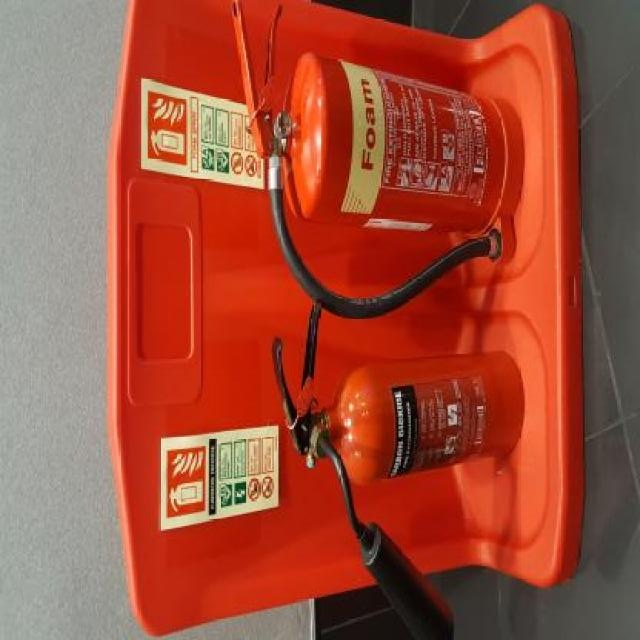fire extinguisher: (230, 5, 508, 321), (272, 304, 510, 636)
